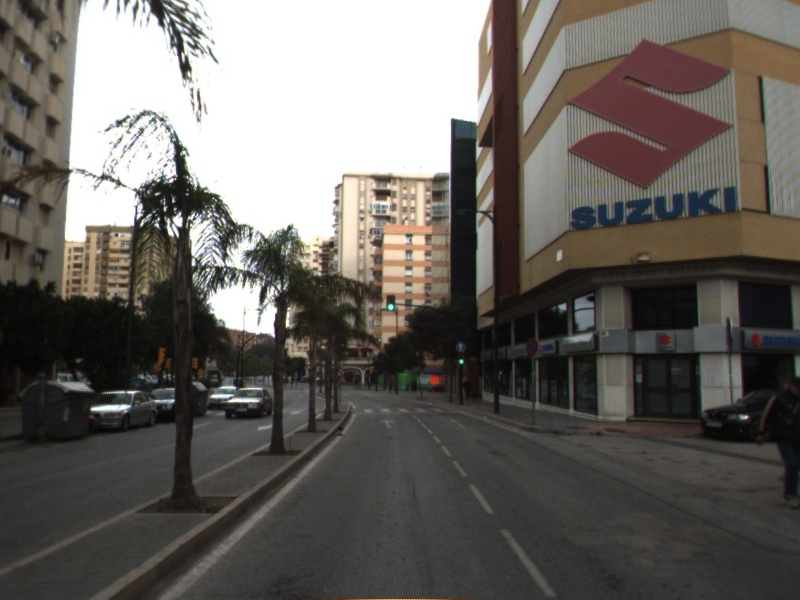STRAIGHT: (447, 416, 470, 431), (377, 416, 399, 431)
